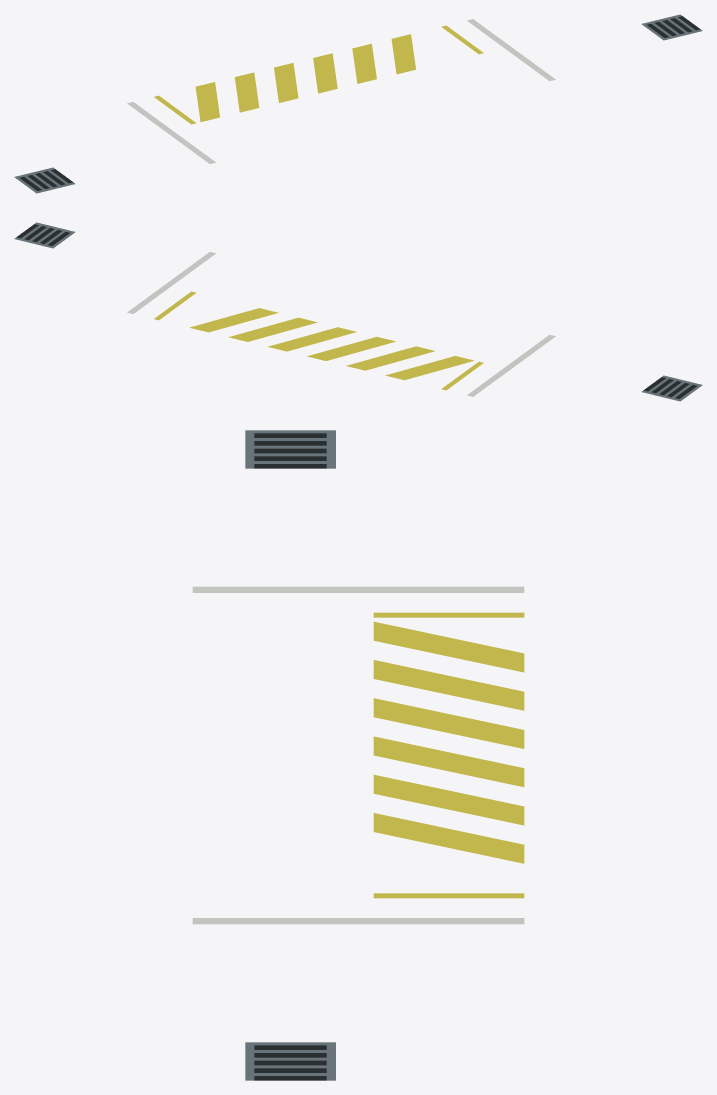
File: sm_env_shed_yard_small.glb
3 views of the same model, one above another, from view 1: azimuth 30°, elevation 25°; view 2: azimuth 150°, elevation 25°; view 3: azimuth 270°, elevation 25° (orthographic). The views are drawn at different scales.
Parts seen in each view (by area): view 1: DockHatch.001, DockHatch, DockHatch.002, DockHatch.003, DockHatch.004, DockHatch.005, DockGuide, DockGuide.001; view 2: DockHatch.005, DockHatch.003, DockHatch.004, DockHatch.001, DockHatch, DockHatch.002, DockGuide.001, DockGuide; view 3: DockHatch.001, DockHatch.002, DockHatch.003, DockHatch.004, DockHatch.005, DockHatch, DockGuide, DockGuide.001.
Boxes of the visible parts, x1,y1,x2,y2 form: DockHatch.001: (234,72,259,112); DockHatch: (195,82,219,121); DockHatch.002: (274,63,298,102); DockHatch.003: (313,53,337,93); DockHatch.004: (352,43,376,83); DockHatch.005: (391,34,415,74); DockGuide: (127,102,215,163); DockGuide.001: (467,19,555,81); DockHatch.005: (189,308,278,332); DockHatch.003: (267,327,356,351); DockHatch.004: (229,317,317,341); DockHatch.001: (346,346,434,370); DockHatch: (385,356,474,380); DockHatch.002: (307,337,395,360); DockGuide.001: (127,252,215,313); DockGuide: (467,334,555,396); DockHatch.001: (373,660,524,710); DockHatch.002: (373,698,524,748); DockHatch.003: (373,736,524,787); DockHatch.004: (373,774,524,825); DockHatch.005: (373,813,524,863); DockHatch: (373,621,524,672); DockGuide: (192,586,524,592); DockGuide.001: (192,918,524,924).
Bounding box in the file's own units: 10.2 × 0 × 2.2.
